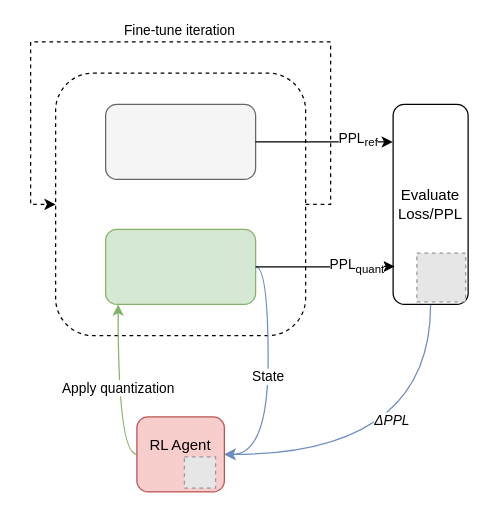
Image size: 490x514. Some labels were removed from this diagram. Grey dashed boxes stand in for pictures. The shapes that lost their labels are listed below. From the top down, each one's centre as x and y in pixels, then its label:
(x=180, y=141): Episodic Reference Model
(x=180, y=266): Quantized Model
